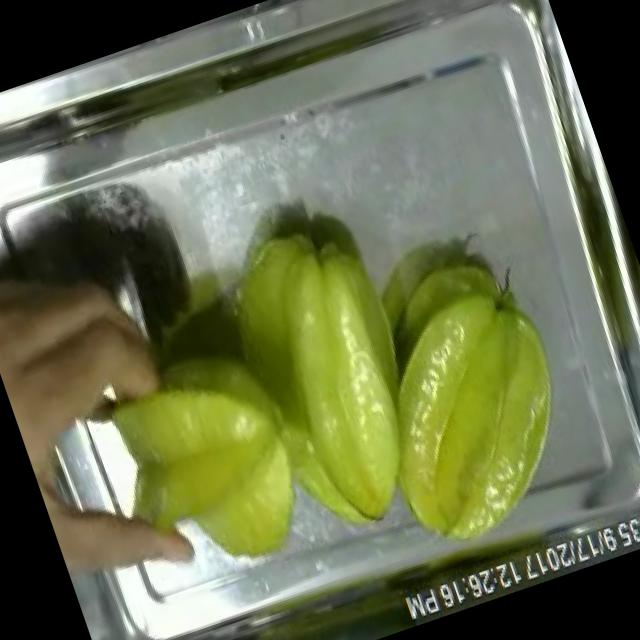fruit: (165, 190, 466, 582), (321, 258, 616, 576), (74, 332, 338, 610), (0, 209, 211, 527)
